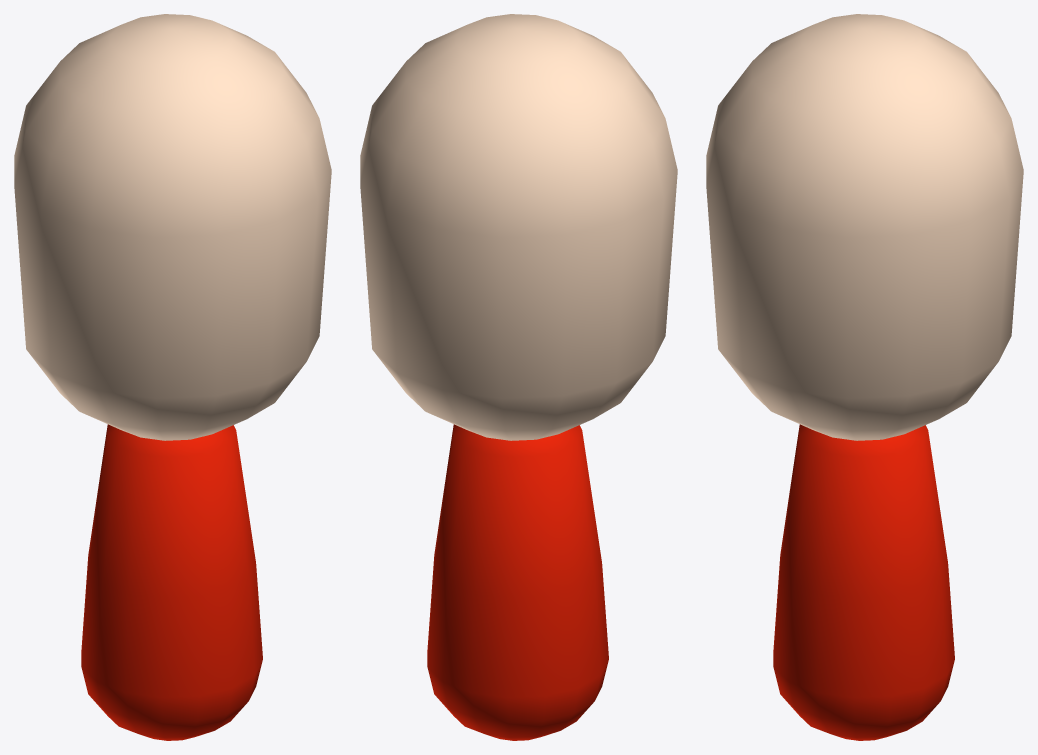
The model's file is mdl_miis_tempmii2.glb.
3 renders of one model, left to right at view 1: azimuth 30°, elevation 25°; view 2: azimuth 150°, elevation 25°; view 3: azimuth 270°, elevation 25°, orthographic.
Parts seen in each view (by area): view 1: head.001, Sphere.001; view 2: head.001, Sphere.001; view 3: head.001, Sphere.001.
Part boxes in pixels (x1,y1,x2,y2): head.001: (14,14,331,440); Sphere.001: (81,424,262,740); head.001: (360,14,677,440); Sphere.001: (427,424,608,740); head.001: (706,14,1023,440); Sphere.001: (773,424,954,740).
Size of the model in its own units: 0.5338 by 1.3 by 0.5308.
